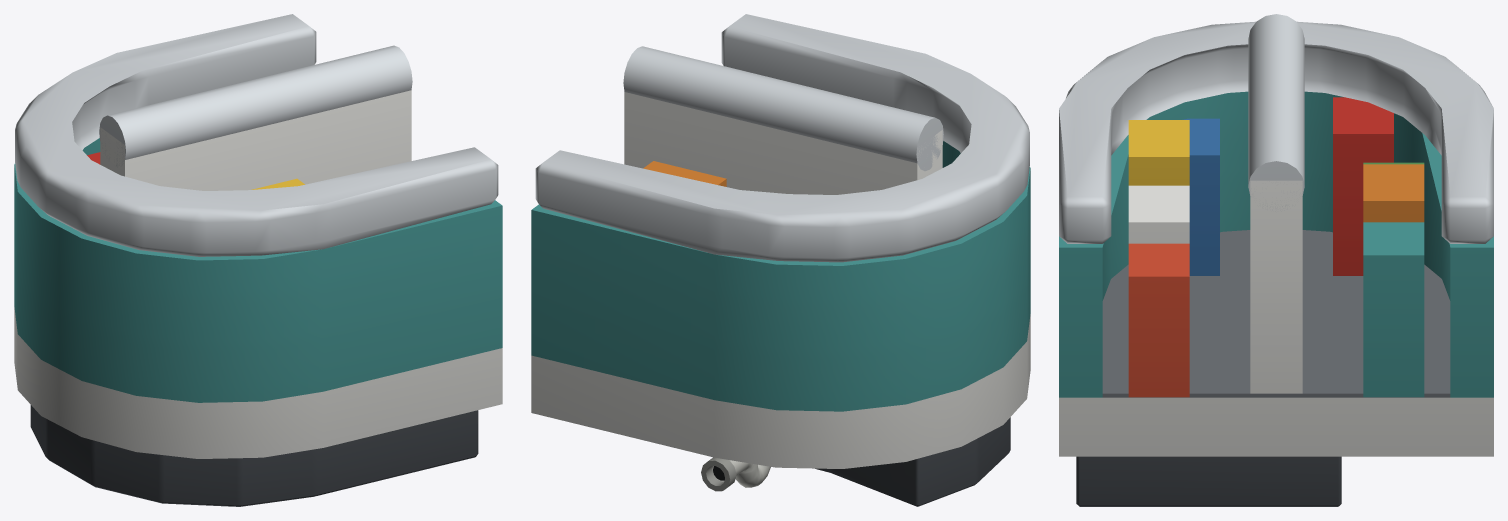
The model's file is IslandFreezer_End_10_Stocked.glb.
The picture shows the model from 3 angles, left to right: view 1: azimuth 30°, elevation 25°; view 2: azimuth 150°, elevation 25°; view 3: azimuth 270°, elevation 25°; orthographic projection. The views are drawn at different scales.
Parts seen in each view (by area): view 1: SM_IslandFreezer_End_10_Stocked; view 2: SM_IslandFreezer_End_10_Stocked; view 3: SM_IslandFreezer_End_10_Stocked.
Boxes of the visible parts, x1=… form: SM_IslandFreezer_End_10_Stocked: x1=14, y1=14, x2=502, y2=506; SM_IslandFreezer_End_10_Stocked: x1=531, y1=14, x2=1030, y2=506; SM_IslandFreezer_End_10_Stocked: x1=1059, y1=14, x2=1493, y2=506.
Size of the model in its own units: 1.02 by 0.9 by 1.
1 material, 1 textured.
